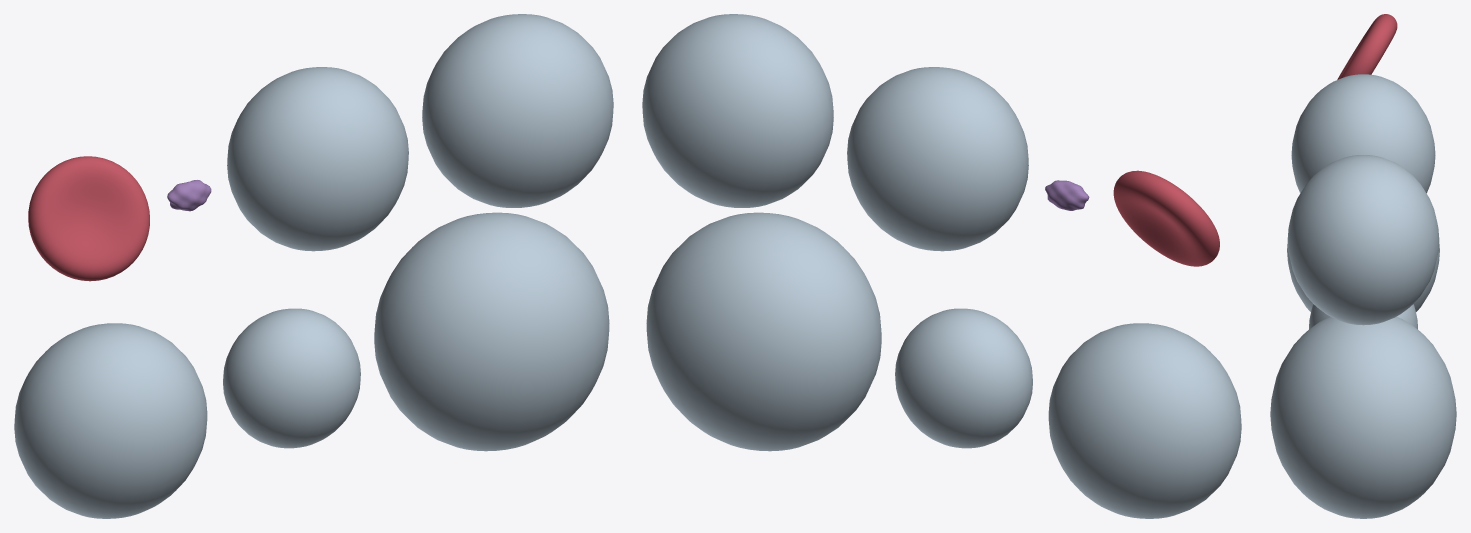
The model's file is formed-elements.glb.
The picture shows the model from 3 angles, left to right: view 1: azimuth 30°, elevation 25°; view 2: azimuth 150°, elevation 25°; view 3: azimuth 270°, elevation 25°; orthographic projection. The views are drawn at different scales.
Parts seen in each view (by area): view 1: monocyte_cytoplasm, basophil_cytoplasm, eosinophil_cytoplasm, neutrophil_cytoplasm, lymphocyte_cytoplasm, erythrocyte_membrane, platelet_fragment; view 2: monocyte_cytoplasm, basophil_cytoplasm, eosinophil_cytoplasm, neutrophil_cytoplasm, lymphocyte_cytoplasm, erythrocyte_membrane, platelet_fragment; view 3: monocyte_cytoplasm, eosinophil_cytoplasm, neutrophil_cytoplasm, erythrocyte_membrane, basophil_cytoplasm, lymphocyte_cytoplasm.
Boxes of the visible parts, bbox=[...] form: monocyte_cytoplasm: bbox=[374, 212, 609, 451]; basophil_cytoplasm: bbox=[14, 323, 207, 518]; eosinophil_cytoplasm: bbox=[422, 14, 613, 207]; neutrophil_cytoplasm: bbox=[227, 67, 408, 251]; lymphocyte_cytoplasm: bbox=[223, 308, 360, 448]; erythrocyte_membrane: bbox=[28, 156, 149, 281]; platelet_fragment: bbox=[167, 180, 211, 211]; monocyte_cytoplasm: bbox=[646, 212, 881, 451]; basophil_cytoplasm: bbox=[1048, 323, 1241, 518]; eosinophil_cytoplasm: bbox=[642, 14, 833, 207]; neutrophil_cytoplasm: bbox=[847, 67, 1028, 251]; lymphocyte_cytoplasm: bbox=[895, 308, 1032, 448]; erythrocyte_membrane: bbox=[1113, 170, 1219, 266]; platelet_fragment: bbox=[1045, 180, 1089, 210]; monocyte_cytoplasm: bbox=[1270, 317, 1456, 518]; eosinophil_cytoplasm: bbox=[1287, 155, 1439, 325]; neutrophil_cytoplasm: bbox=[1291, 74, 1435, 193]; erythrocyte_membrane: bbox=[1337, 14, 1397, 79]; basophil_cytoplasm: bbox=[1287, 243, 1439, 311]; lymphocyte_cytoplasm: bbox=[1309, 304, 1417, 329].
Bounding box in the file's own units: 7.99 × 5.46 × 2.58.
